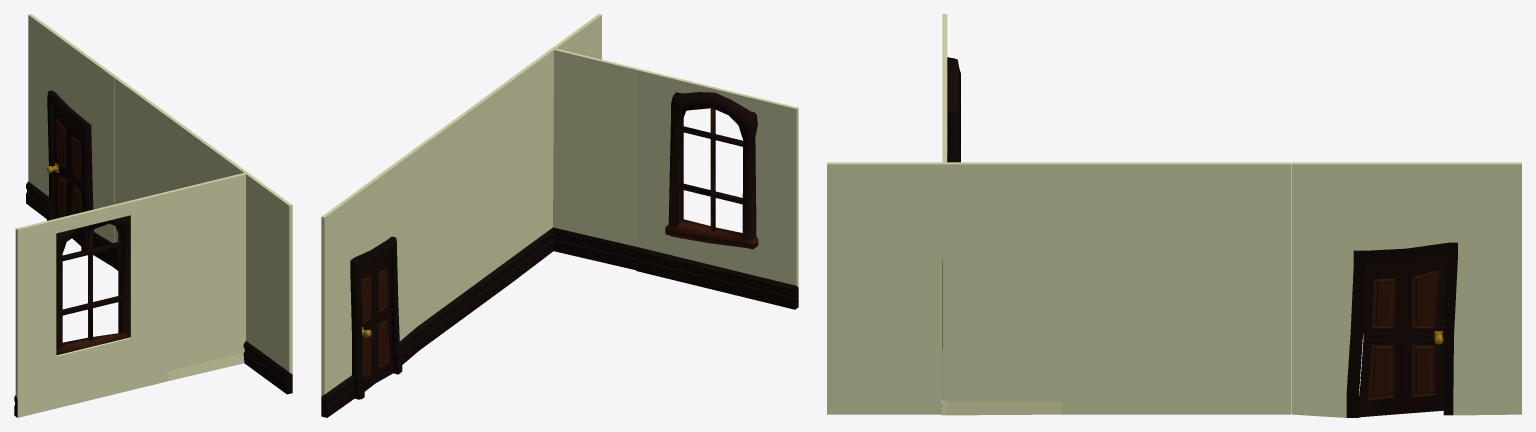
File: Walls.fbx
3 views of the same model, side by side, from view 1: azimuth 30°, elevation 25°; view 2: azimuth 150°, elevation 25°; view 3: azimuth 270°, elevation 25° (orthographic). The views are drawn at different scales.
Parts seen in each view (by area): view 1: WindowWall, Corner, DoorWall, SingleWall001, SingleWall, Window, Door1, WindowFrame; view 2: Corner, WindowWall, SingleWall, DoorWall, Window, Door1, WindowFrame, SingleWall001; view 3: SingleWall, DoorWall, Corner, SingleWall001, Door1, Window, WindowWall.
Boxes of the visible parts, box(x1,y1,x2,y2) form: WindowWall: box(14, 192, 167, 417); Corner: box(165, 140, 248, 381); DoorWall: box(26, 14, 117, 266); SingleWall001: box(243, 173, 292, 394); SingleWall: box(112, 77, 203, 270); Window: box(56, 210, 130, 355); Door1: box(53, 106, 82, 245); WindowFrame: box(62, 229, 122, 340); Corner: box(505, 47, 639, 282); WindowWall: box(636, 69, 798, 309); SingleWall: box(414, 82, 510, 350); DoorWall: box(321, 149, 418, 417); Window: box(665, 92, 758, 249); Door1: box(360, 251, 392, 391); WindowFrame: box(679, 107, 742, 231); SingleWall001: box(553, 14, 601, 59); SingleWall: box(1061, 162, 1291, 414); DoorWall: box(1291, 162, 1521, 417); Corner: box(941, 110, 1061, 415); SingleWall001: box(827, 162, 942, 414); Door1: box(1359, 254, 1447, 417); Window: box(947, 57, 960, 162); WindowWall: box(942, 14, 947, 349).
Size of the model in its own units: 212 by 162 by 401.
